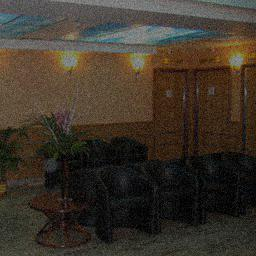Puerta: (194, 70, 230, 149), (154, 70, 184, 159)
